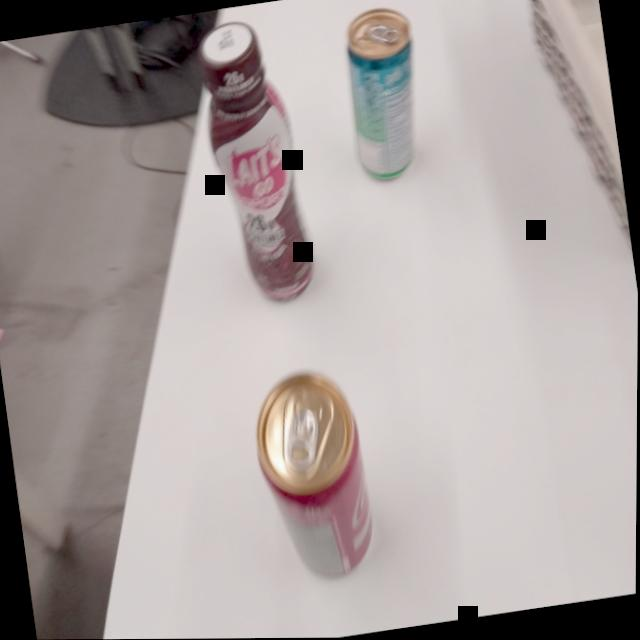chocolate_drink: (184, 7, 327, 317)
coke: (242, 362, 385, 596)
